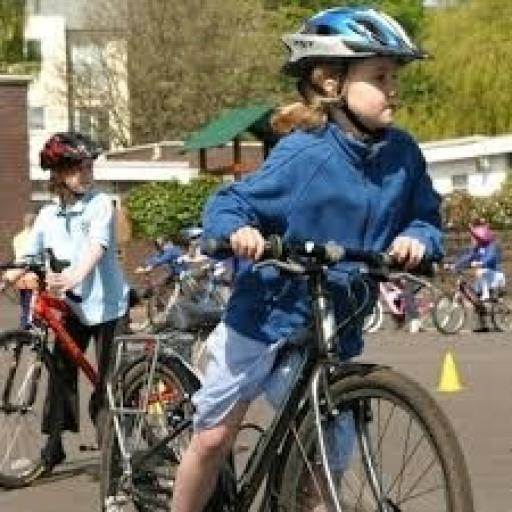cycling: (146, 4, 450, 510), (0, 128, 137, 490)
